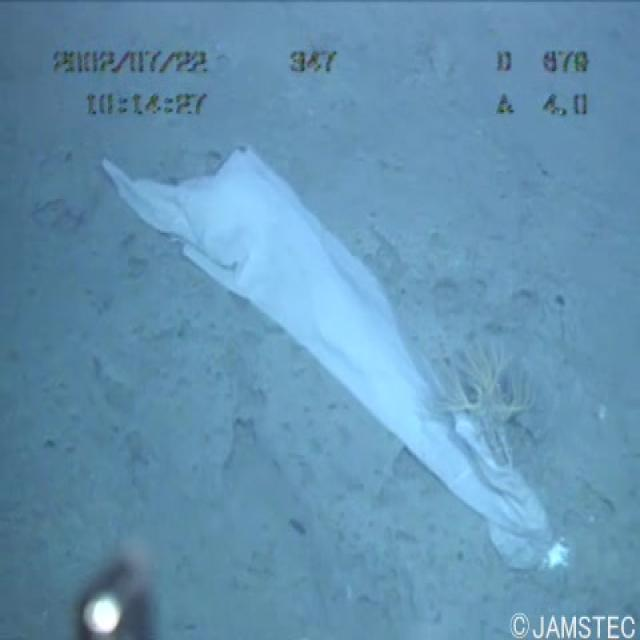plastic: (56, 94, 573, 576)
